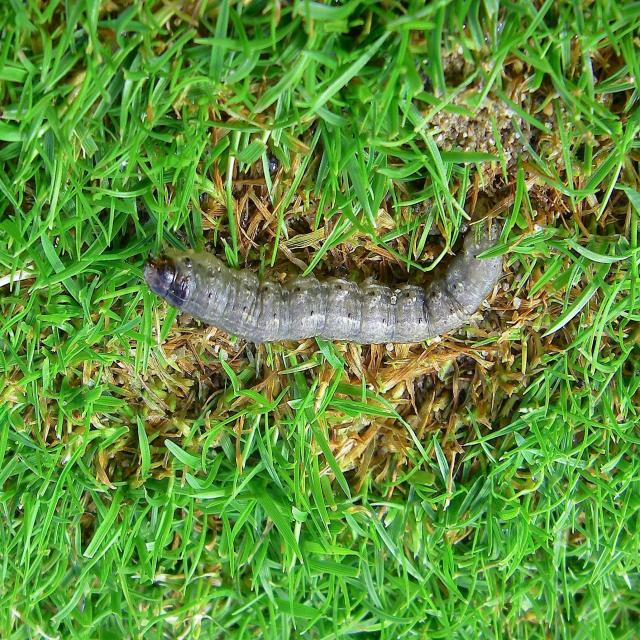black cutworm: (144, 207, 507, 344)
